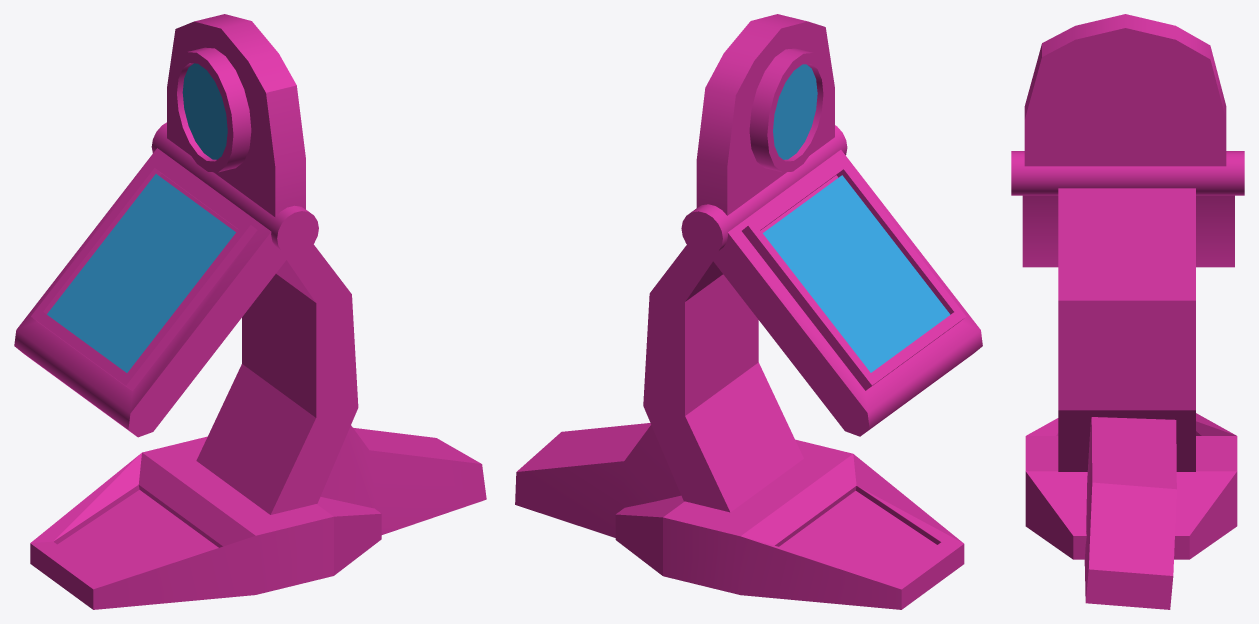
Rendered from SM_Interrupteur.FBX.
3 renders of one model, left to right at view 1: azimuth 30°, elevation 25°; view 2: azimuth 150°, elevation 25°; view 3: azimuth 270°, elevation 25°, orthographic. The views are drawn at different scales.
Parts seen in each view (by area): view 1: Interrupteur; view 2: Interrupteur; view 3: Interrupteur.
Boxes of the visible parts, <box> form: Interrupteur: <box>14,14,486,609</box>; Interrupteur: <box>515,14,982,609</box>; Interrupteur: <box>1011,14,1244,609</box>.
Size of the model in its own units: 78.57 by 102 by 42.64.
